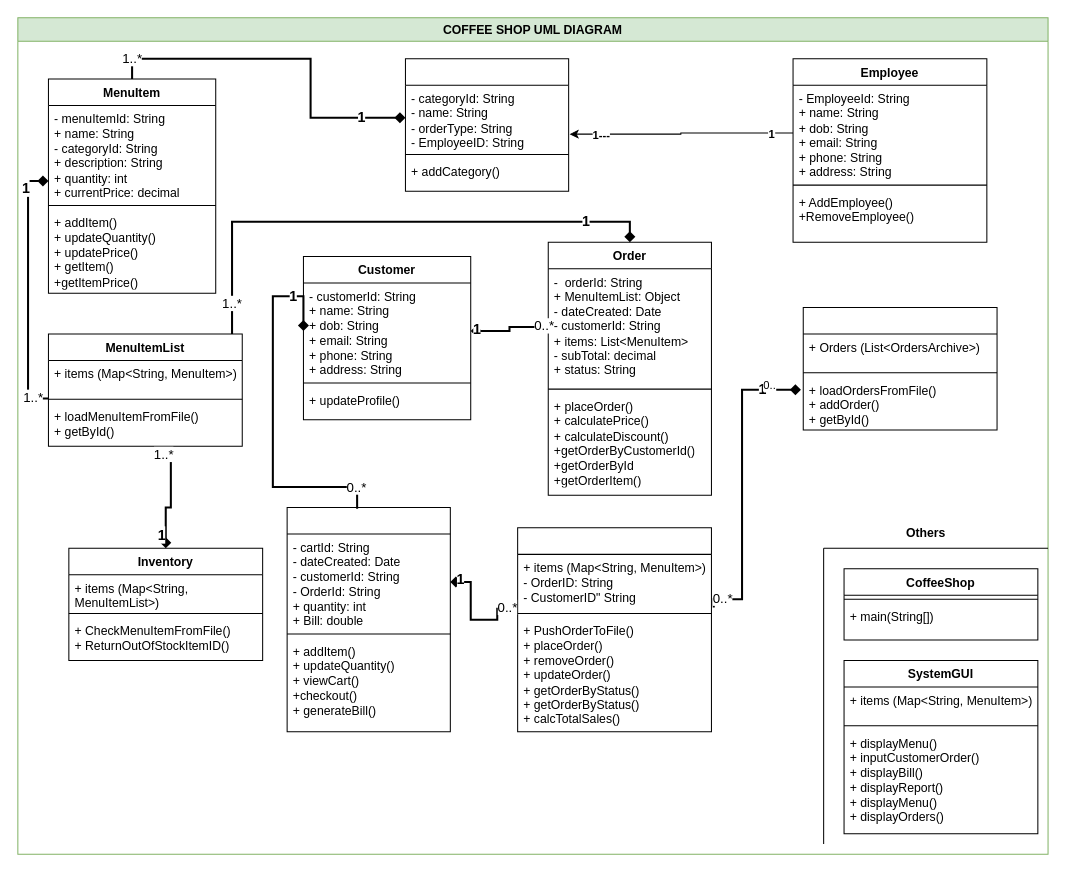
The diagram is 1067 pixels wide and 872 high, and some of its shapes have lost their labels. The box of each missing label's shape, as (x1, y1, x2, y2) in pixels:
ItemCategory: (404, 58, 569, 191)
OrderArchive: (517, 527, 711, 732)
OrderList: (802, 307, 997, 430)
ShoppingCart: (286, 506, 450, 732)
